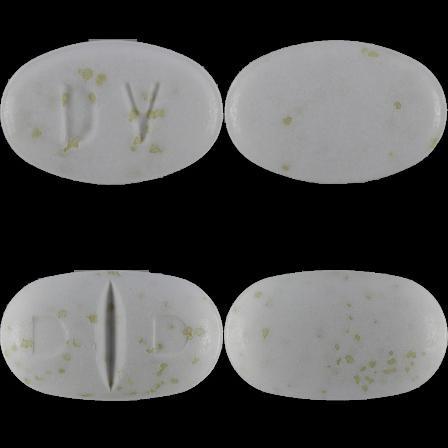51862-557: (0, 0, 224, 224)
